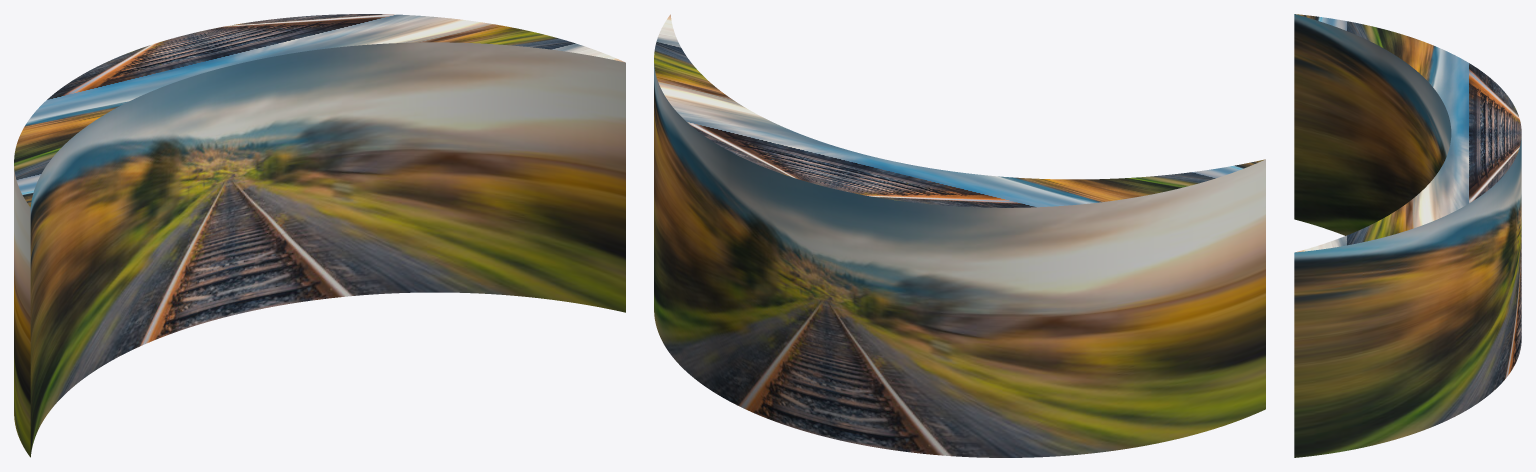
The model's file is frontscreen.fbx.
The picture shows the model from 3 angles, left to right: view 1: azimuth 30°, elevation 25°; view 2: azimuth 150°, elevation 25°; view 3: azimuth 270°, elevation 25°; orthographic projection. The views are drawn at different scales.
Visible parts, largest first — view 1: Cylinder001; view 2: Cylinder001; view 3: Cylinder001.
Part boxes in pixels (x1,y1,x2,y2): Cylinder001: (14,14,625,457); Cylinder001: (654,14,1265,457); Cylinder001: (1294,14,1521,457).
Size of the model in its own units: 208 by 83.55 by 83.85.
